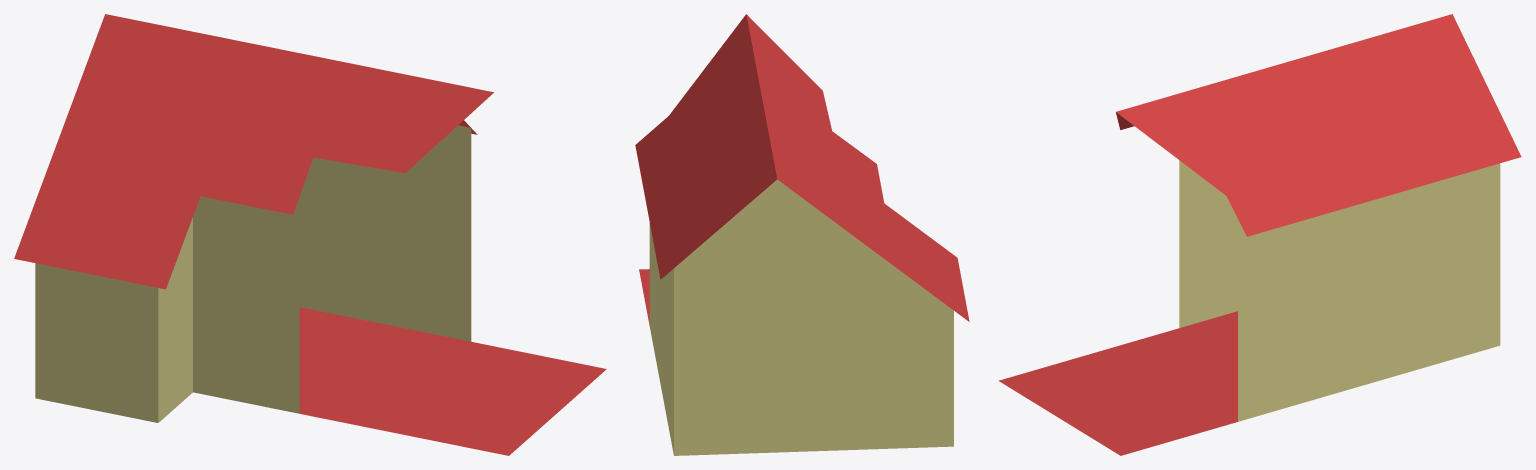
3 views of the same model, side by side, from view 1: azimuth 30°, elevation 25°; view 2: azimuth 150°, elevation 25°; view 3: azimuth 270°, elevation 25° (orthographic). The views are drawn at different scales.
Bounding box in the file's own units: 17.21 × 17.21 × 10.55.
